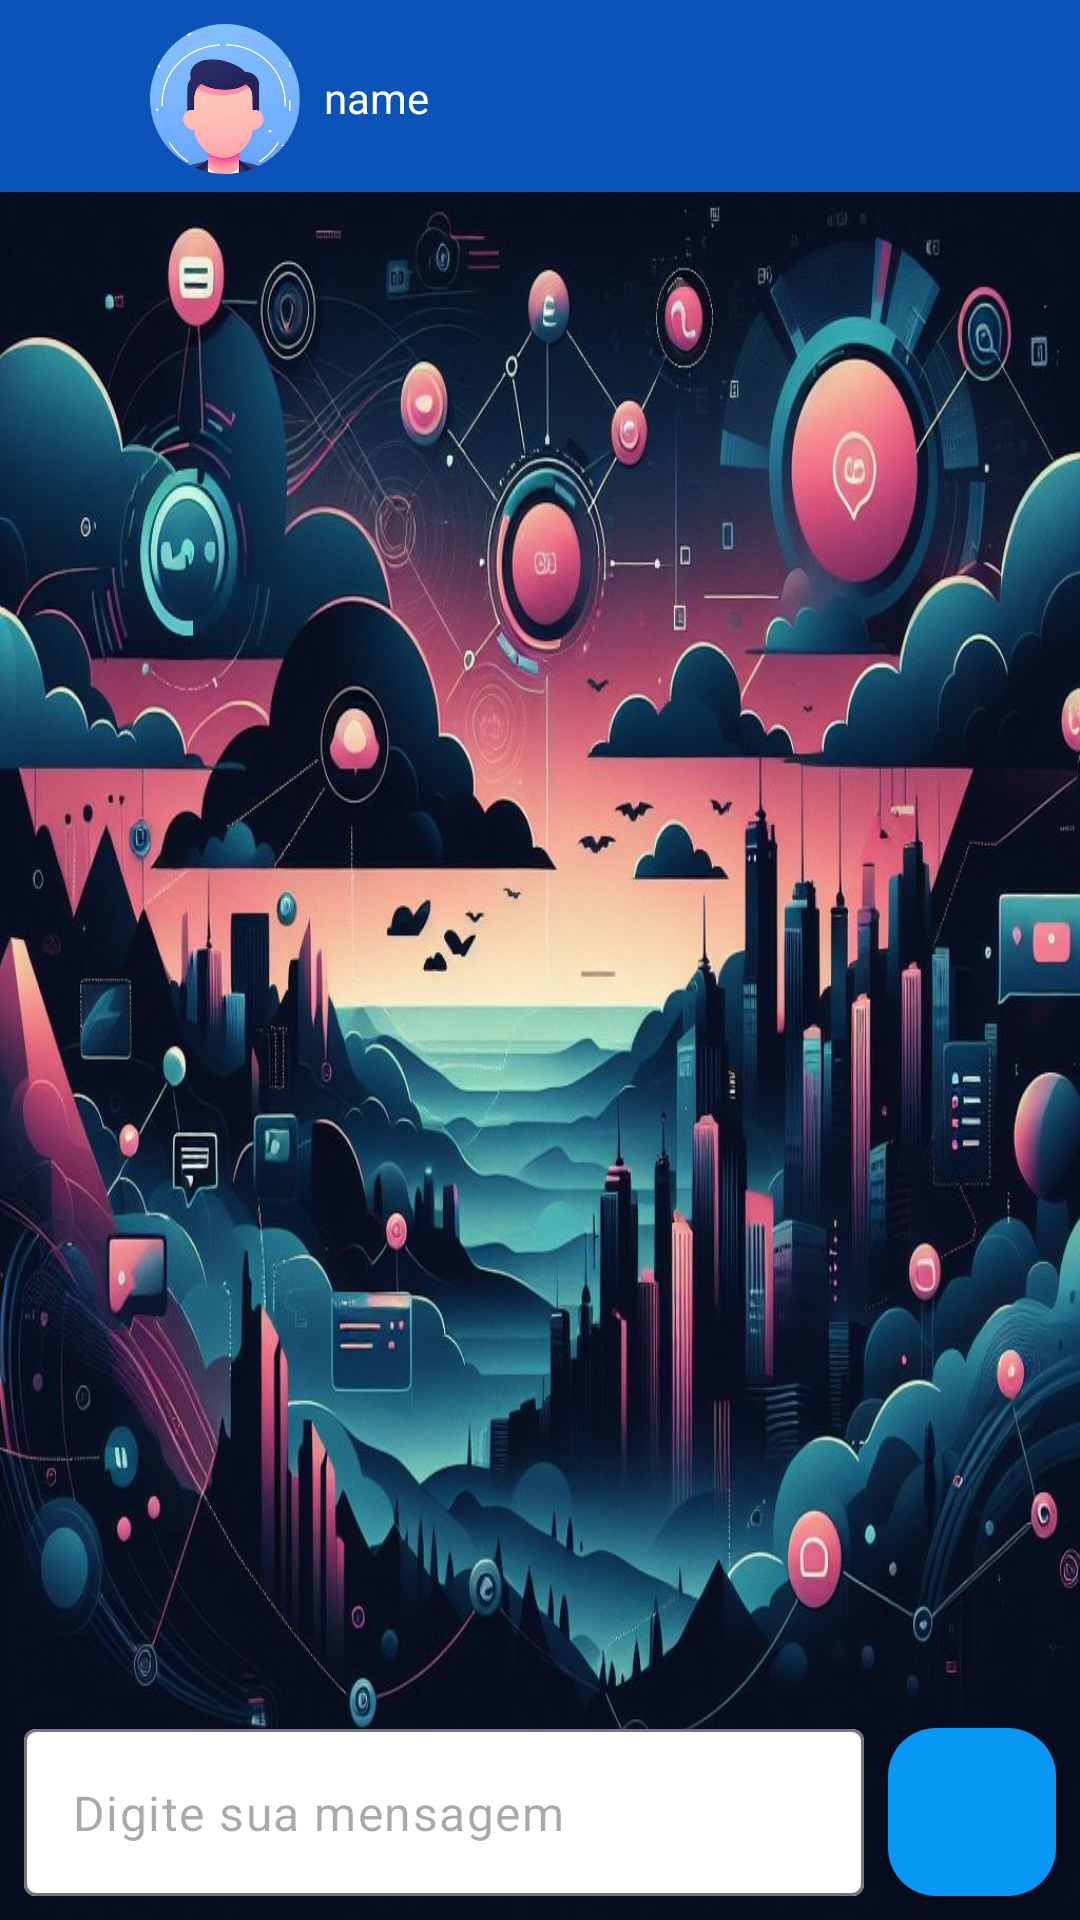

Point at icon controls on the screen. Image size 1080×1920, points as (x=x, y=y).
user: (x=225, y=99)
